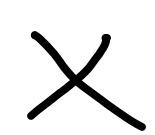mult: (27, 31, 146, 130)
